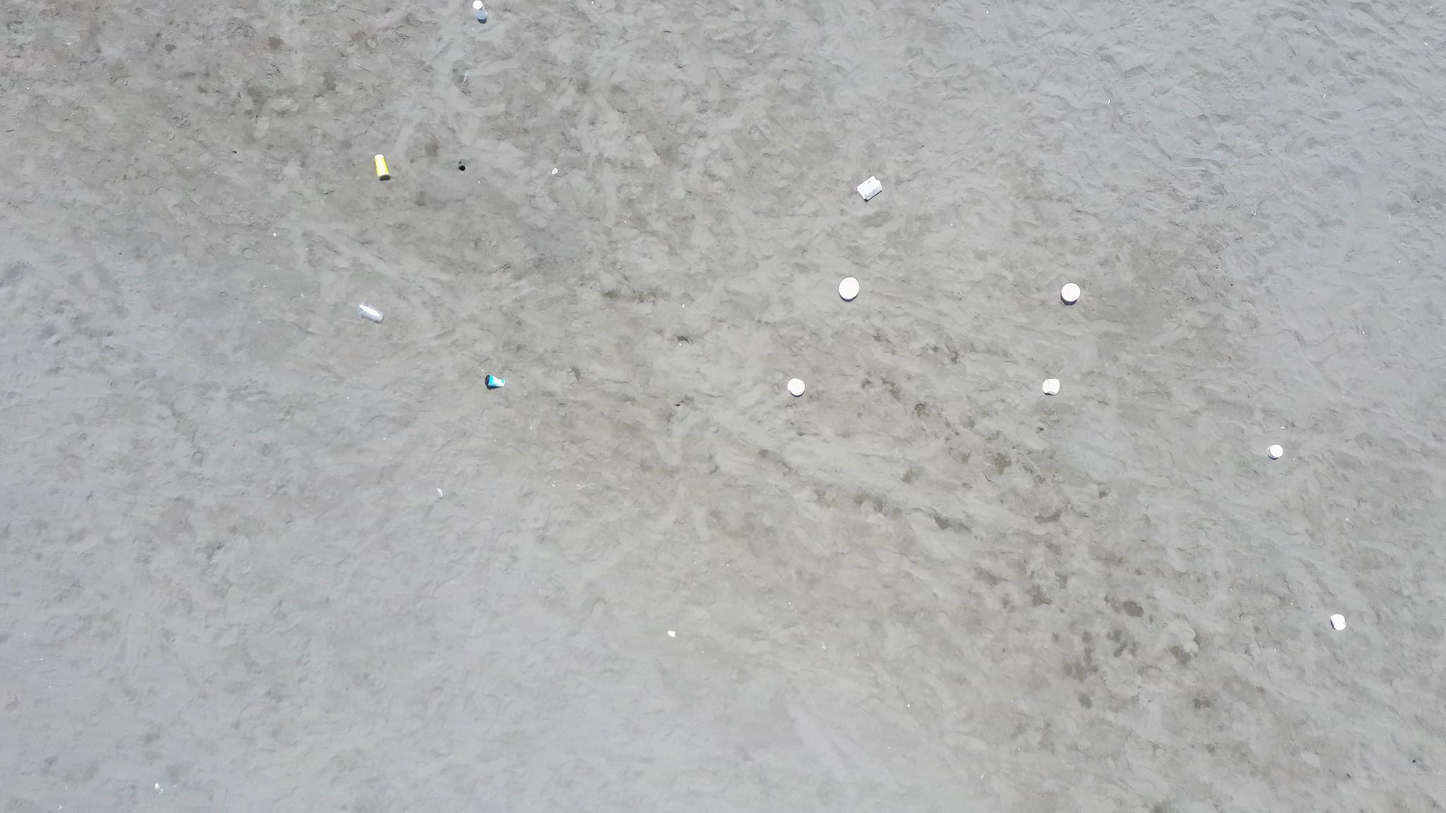Garbage: (856, 176, 881, 200), (839, 277, 859, 300), (359, 303, 383, 321), (1061, 282, 1080, 303), (472, 0, 486, 23), (787, 378, 803, 397), (376, 154, 388, 179), (1041, 379, 1059, 394), (1330, 614, 1345, 630), (486, 375, 503, 389), (1267, 445, 1283, 459), (458, 160, 465, 171), (436, 488, 443, 498), (667, 630, 676, 637), (551, 166, 556, 174)
